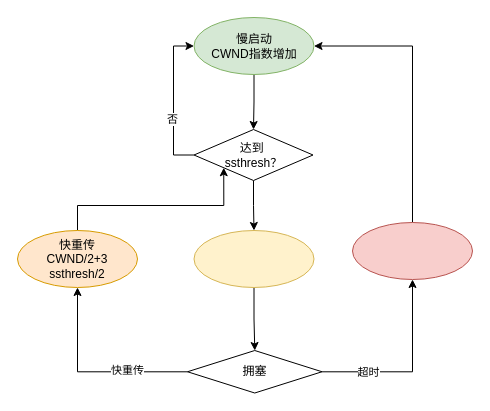
Image size: 490x411. Some labels were removed from this diagram. The shapes that lost their labels are listed below. From the top down, each one's box as (x1, y1, x2, y2) in pixels, then its label:
(193, 230, 314, 288): 拥塞控制 CWND线性增加
(352, 222, 472, 280): 超时重传 CWND=1 ssthresh/2
